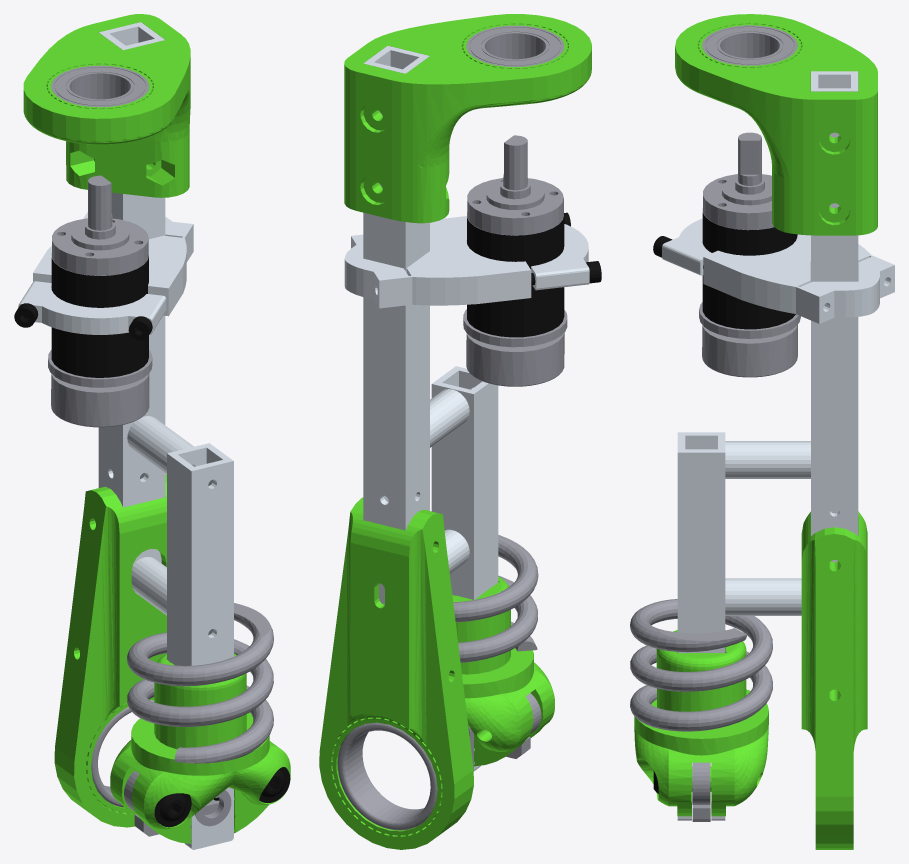
The model's file is sea_arm_01_assem_04_upper_arm_link_left.dae.
3 views of the same model, side by side, from view 1: azimuth 30°, elevation 25°; view 2: azimuth 150°, elevation 25°; view 3: azimuth 270°, elevation 25° (orthographic). The views are drawn at different scales.
Visible parts, largest first — view 1: SEA_Arm_01_Assem_04_Square_Humerus_-_Humerus_Tube_03-1; view 2: SEA_Arm_01_Assem_04_Square_Humerus_-_Humerus_Tube_03-1; view 3: SEA_Arm_01_Assem_04_Square_Humerus_-_Humerus_Tube_03-1.
Boxes of the visible parts, left/top/right/bottom form: SEA_Arm_01_Assem_04_Square_Humerus_-_Humerus_Tube_03-1: left=14, top=14, right=290, bottom=849; SEA_Arm_01_Assem_04_Square_Humerus_-_Humerus_Tube_03-1: left=319, top=14, right=601, bottom=849; SEA_Arm_01_Assem_04_Square_Humerus_-_Humerus_Tube_03-1: left=630, top=14, right=894, bottom=849.
Size of the model in its own units: 0.0881 by 0.0885 by 0.2805.
